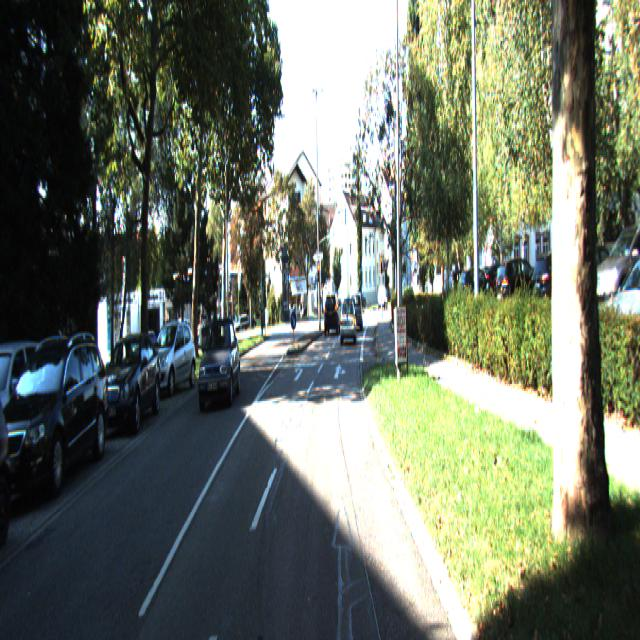Car: (0, 336, 112, 517), (96, 332, 162, 438), (144, 319, 197, 396), (197, 322, 241, 412), (340, 300, 356, 345)
